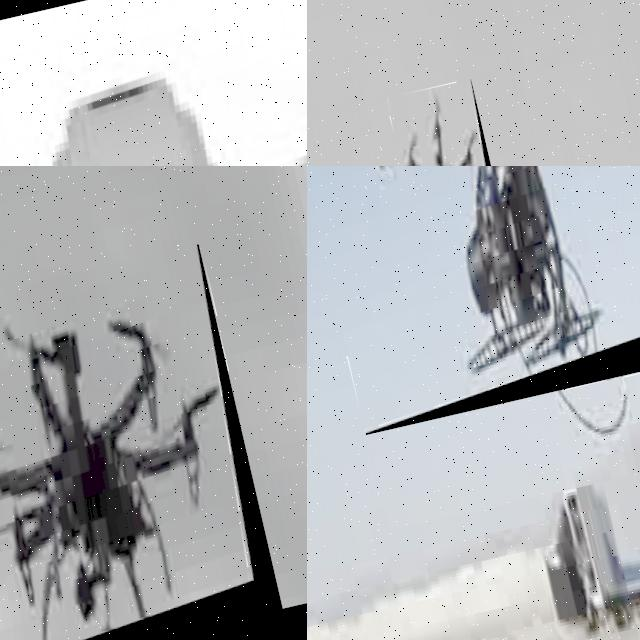drone: (0, 244, 282, 640), (307, 166, 640, 434), (0, 0, 307, 166), (385, 78, 517, 166)
